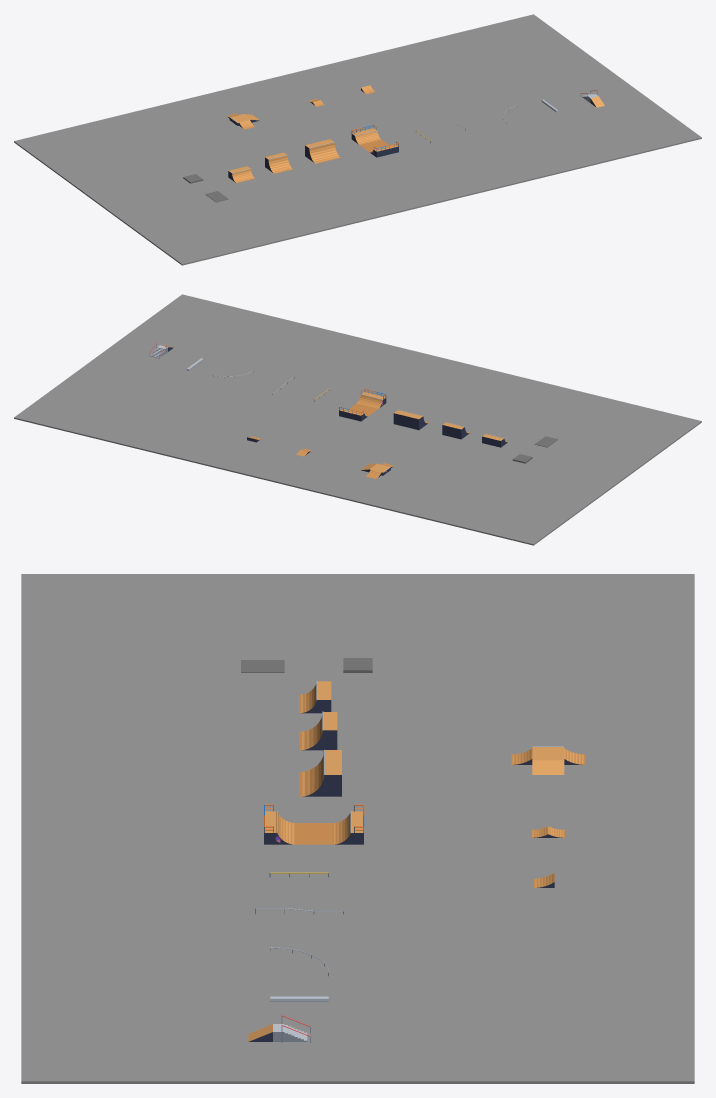
File: greybox.glb
3 views of the same model, one above another, from view 1: azimuth 30°, elevation 25°; view 2: azimuth 150°, elevation 25°; view 3: azimuth 270°, elevation 25° (orthographic). The views are drawn at different scales.
Parts seen in each view (by area): view 1: Concrete_GroundE-col, Concrete_GroundW-col, Wood_QuarterPipe_03-col, Wood_QuarterPipe_02-col; view 2: Concrete_GroundE-col, Concrete_GroundW-col, Wood_QuarterPipe_03-col; view 3: Concrete_GroundE-col, Concrete_GroundW-col, Wood_QuarterPipe_03-col, Wood_QuarterPipe_02-col, Wood_QuarterPipe_05-col, Wood_QuarterPipe_01-col, Wood_QuarterPipe_04-col, PipeFloor_01.
Part boxes in pixels (<box>): Concrete_GroundE-col: <box>52,14,701,256</box>; Concrete_GroundW-col: <box>14,135,207,265</box>; Wood_QuarterPipe_03-col: <box>305,139,340,163</box>; Wood_QuarterPipe_02-col: <box>265,152,292,173</box>; Concrete_GroundE-col: <box>14,294,663,536</box>; Concrete_GroundW-col: <box>508,415,701,545</box>; Wood_QuarterPipe_03-col: <box>393,410,429,430</box>; Concrete_GroundE-col: <box>21,611,694,1083</box>; Concrete_GroundW-col: <box>21,574,694,598</box>; Wood_QuarterPipe_03-col: <box>299,750,341,796</box>; Wood_QuarterPipe_02-col: <box>299,712,337,750</box>; Wood_QuarterPipe_05-col: <box>332,811,363,844</box>; Wood_QuarterPipe_01-col: <box>299,681,331,713</box>; Wood_QuarterPipe_04-col: <box>264,811,295,844</box>; PipeFloor_01: <box>295,823,332,844</box>.
Size of what is drawn, in the model's own units: 164 by 3.79 by 92.
